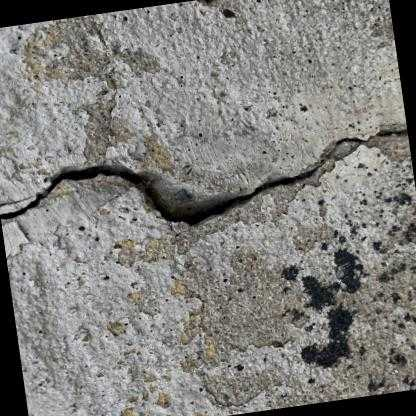crack: (0, 127, 407, 226)
